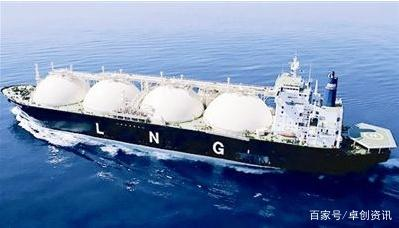Cargoship: (1, 49, 398, 175)
